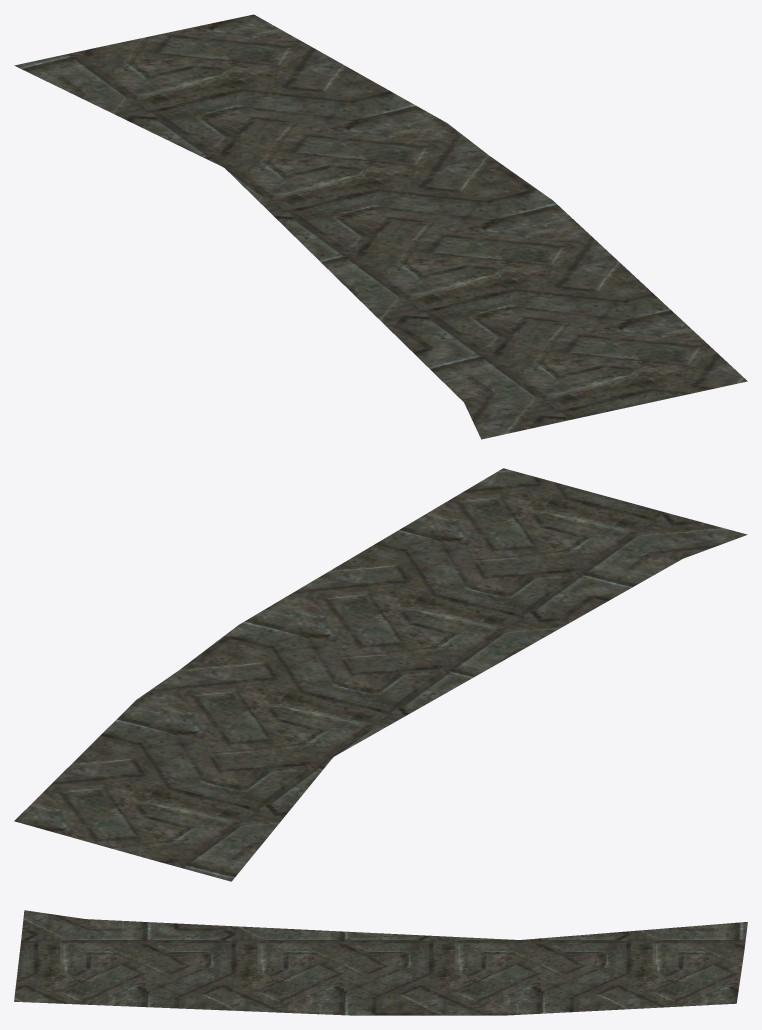
Rendered from CH09_SMAUG_PLAYSURFACE_LAIR500.fbx.
3 views of the same model, one above another, from view 1: azimuth 30°, elevation 25°; view 2: azimuth 150°, elevation 25°; view 3: azimuth 270°, elevation 25° (orthographic). The views are drawn at different scales.
Visible parts, largest first — view 1: CH09_SMAUG_PLAYSURFACE_LAIR500; view 2: CH09_SMAUG_PLAYSURFACE_LAIR500; view 3: CH09_SMAUG_PLAYSURFACE_LAIR500.
Boxes of the visible parts, box(x1,y1,x2,y2) form: CH09_SMAUG_PLAYSURFACE_LAIR500: box(14, 14, 747, 439); CH09_SMAUG_PLAYSURFACE_LAIR500: box(14, 468, 747, 881); CH09_SMAUG_PLAYSURFACE_LAIR500: box(14, 910, 747, 1015).
Bounding box in the file's own units: 45596 × 154 × 134125.
Materials: 1 (1 with a texture image).
